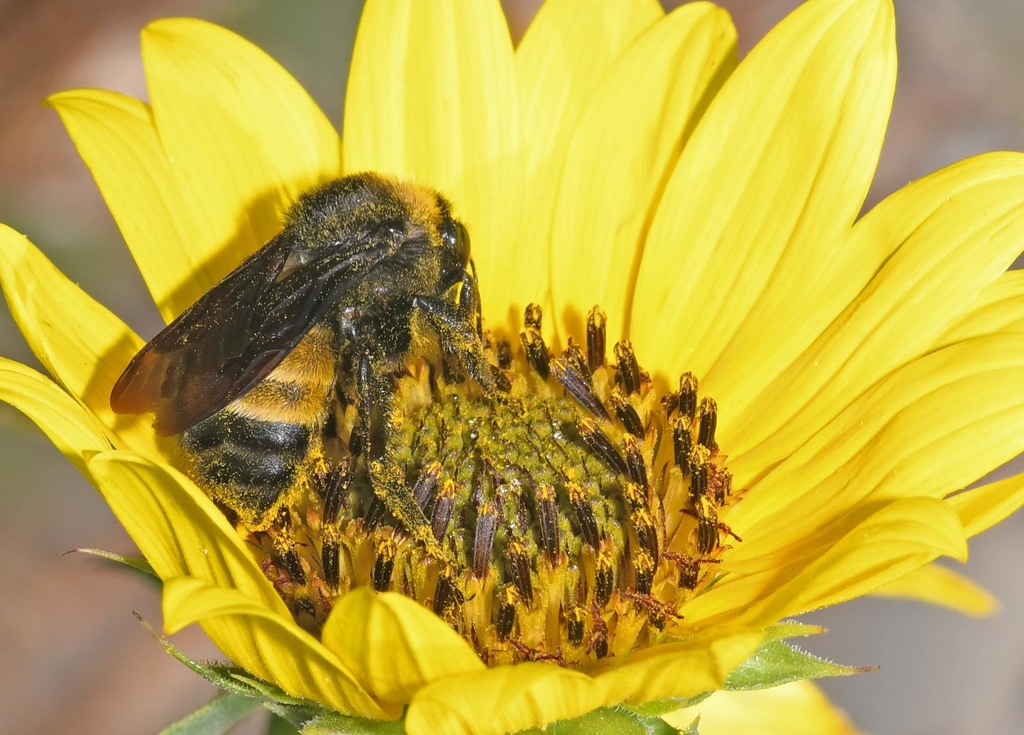bumblebee: (105, 169, 475, 539)
